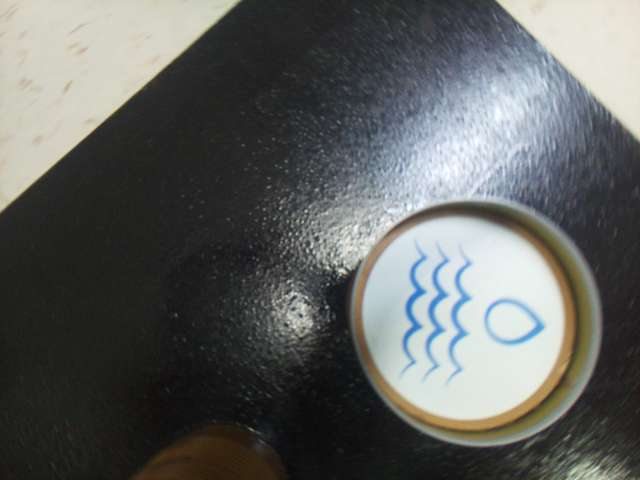water_barrel: (364, 218, 564, 418)
